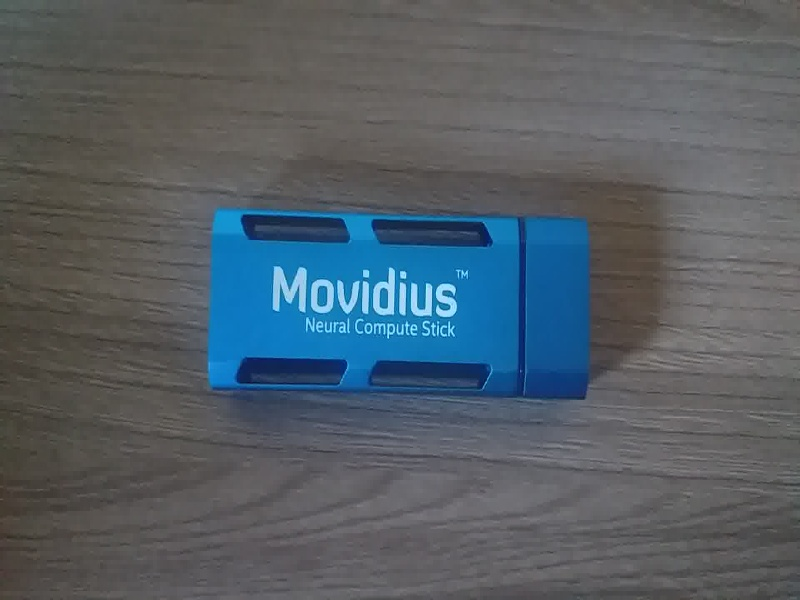movidius: (208, 203, 610, 417)
